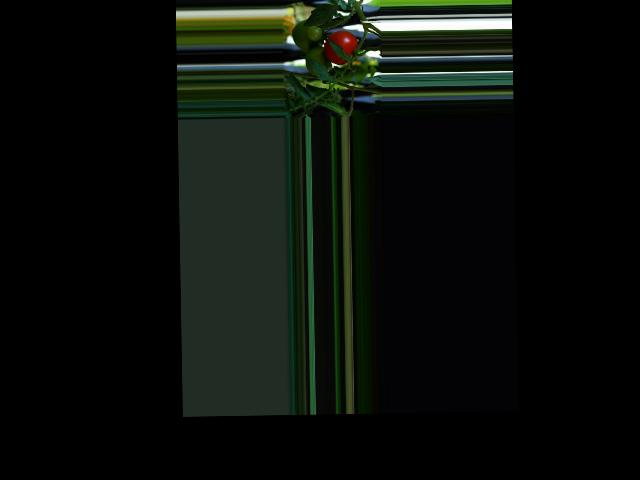tomato: (324, 29, 358, 64)
